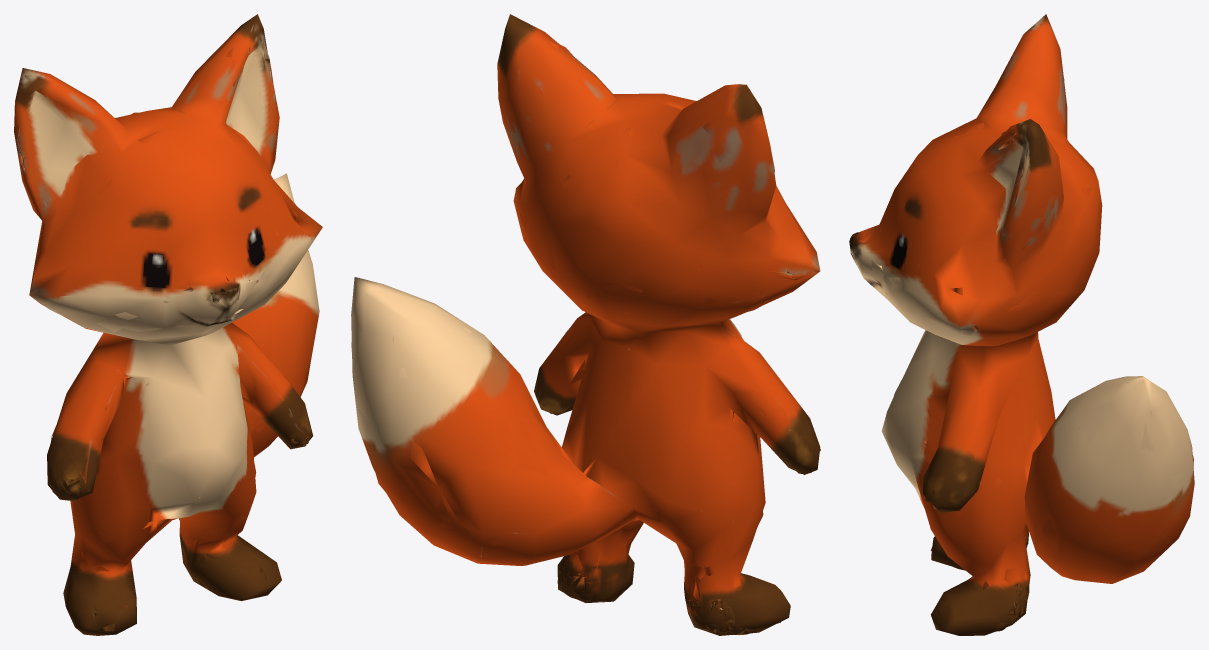
Rendered from audience-fox.glb.
3 renders of one model, left to right at view 1: azimuth 30°, elevation 25°; view 2: azimuth 150°, elevation 25°; view 3: azimuth 270°, elevation 25°, orthographic. The views are drawn at different scales.
Visible parts, largest first — view 1: audience-fox; view 2: audience-fox; view 3: audience-fox.
Boxes of the visible parts, x1,y1,x2,y2 form: audience-fox: [14, 14, 322, 635]; audience-fox: [351, 14, 820, 635]; audience-fox: [849, 14, 1194, 635].
Size of the model in its own units: 0.6702 by 0.9952 by 0.5823.
1 material, 1 textured.
